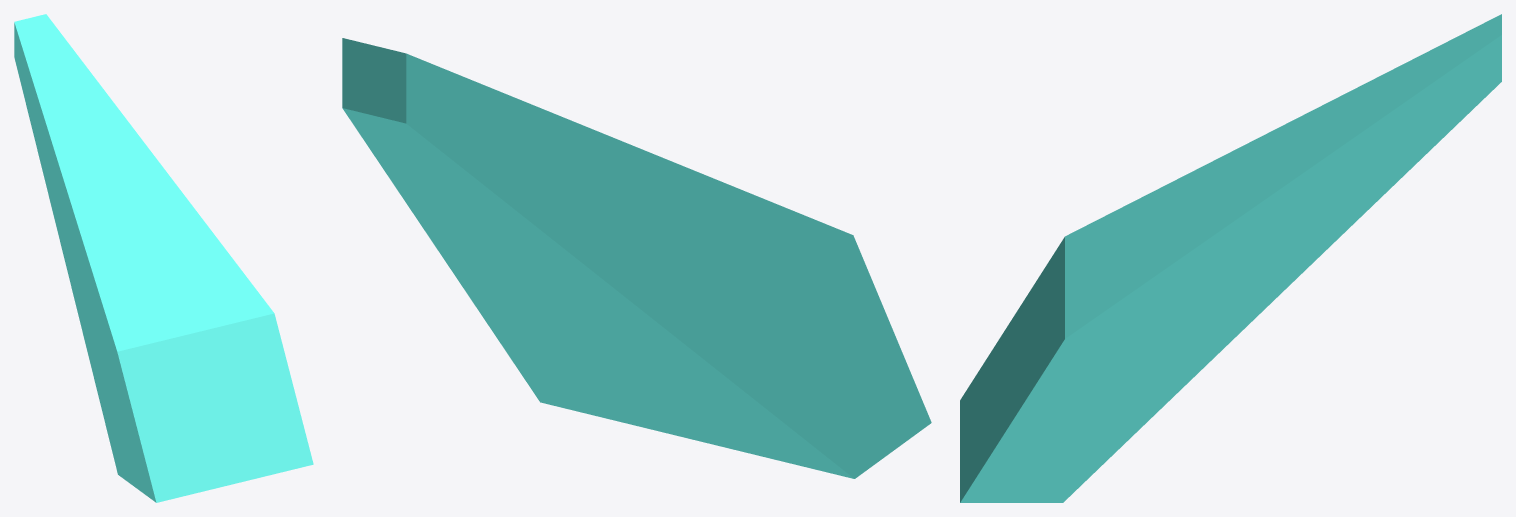
File: porygonCola.obj
3 renders of one model, left to right at view 1: azimuth 30°, elevation 25°; view 2: azimuth 150°, elevation 25°; view 3: azimuth 270°, elevation 25°, orthographic. The views are drawn at different scales.
Parts seen in each view (by area): view 1: porygonCola; view 2: porygonCola; view 3: porygonCola.
Part boxes in pixels (bbox=[...]): porygonCola: bbox=[14, 14, 313, 502]; porygonCola: bbox=[342, 38, 931, 478]; porygonCola: bbox=[960, 14, 1501, 502].
Size of the model in its own units: 0.4904 by 0.9484 by 1.09.
Materials: 1 (1 with a texture image).
